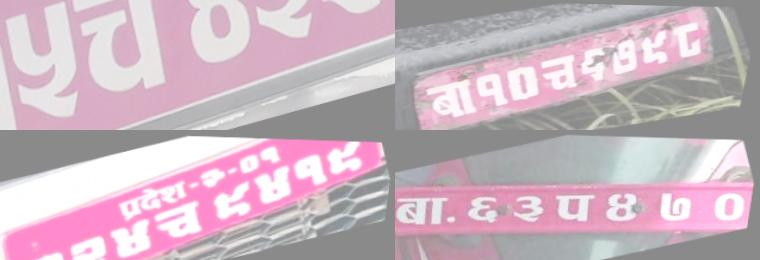0: (497, 63, 557, 104), (706, 182, 755, 223), (28, 247, 80, 260), (236, 150, 262, 172)
1: (0, 7, 40, 130), (468, 70, 523, 112), (289, 149, 330, 187), (257, 141, 284, 163)
2: (292, 0, 395, 34), (66, 231, 117, 260)
3: (507, 187, 558, 227), (197, 162, 230, 190)
4: (160, 0, 275, 77), (595, 182, 658, 227), (107, 216, 161, 257), (249, 162, 300, 205)
5: (0, 0, 107, 130), (227, 0, 341, 56)
6: (569, 44, 625, 86), (460, 187, 513, 226)
7: (650, 179, 710, 225), (600, 37, 652, 76)
8: (665, 19, 718, 60)
9: (630, 26, 688, 69), (206, 178, 260, 219), (320, 138, 369, 175)
ba: (395, 183, 463, 236), (418, 75, 494, 122)
cha: (55, 0, 200, 114), (532, 52, 597, 97), (152, 197, 210, 242)
pa: (548, 182, 608, 229)
